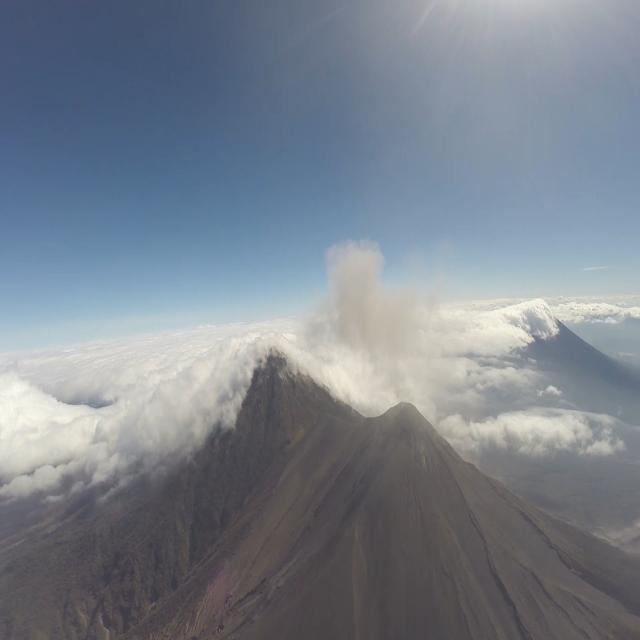Plume: (320, 234, 448, 400)
Summit: (362, 398, 458, 478)
